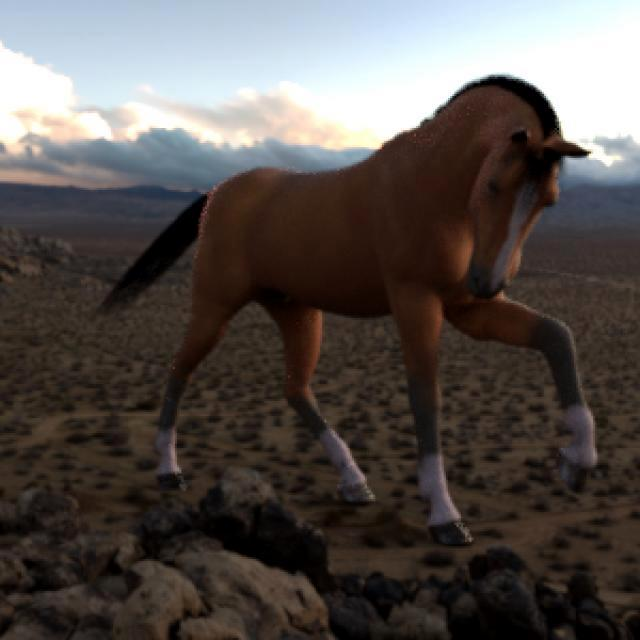horse: (102, 75, 598, 546)
